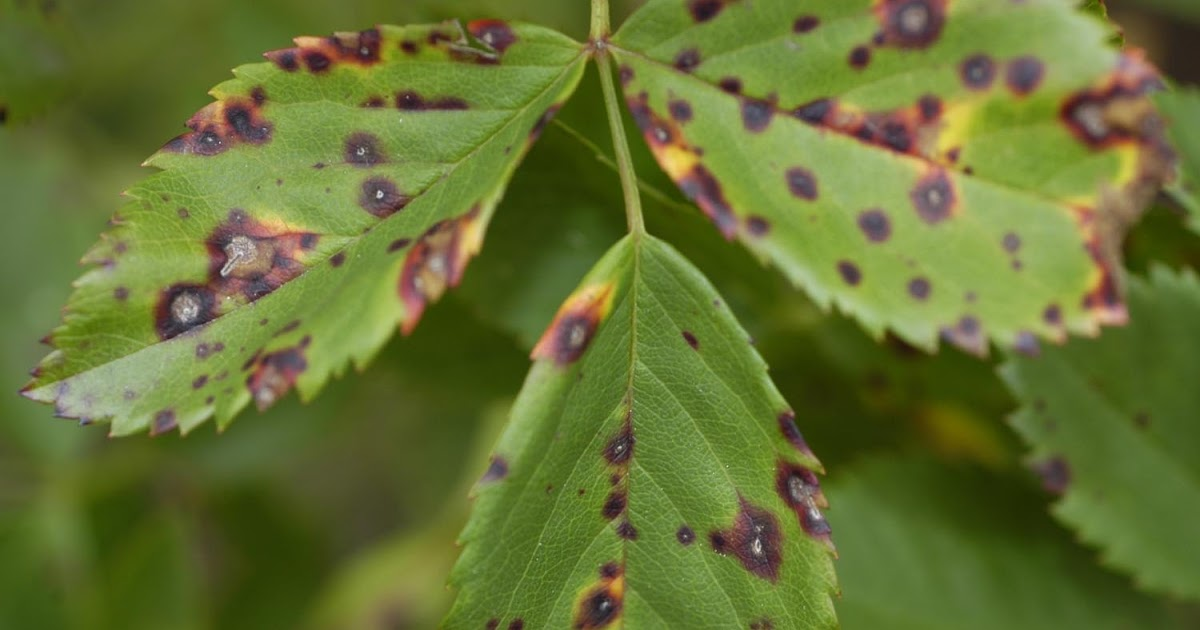unhealthy: (54, 31, 577, 393), (464, 237, 830, 606)
